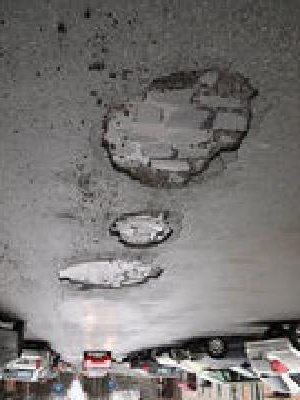pothole: (96, 60, 266, 193), (54, 258, 168, 292), (106, 208, 177, 247)
